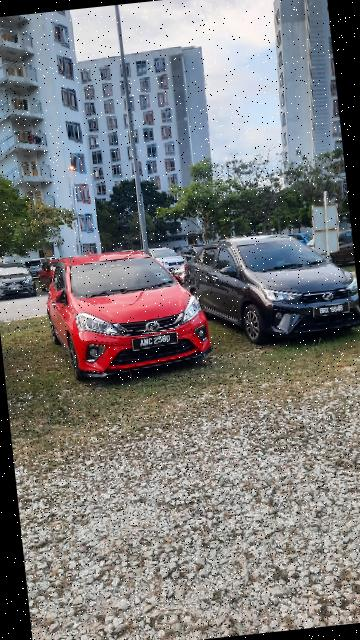License_Plate: (129, 331, 182, 353), (315, 300, 353, 318)
car: (42, 243, 217, 385), (181, 222, 360, 354)
